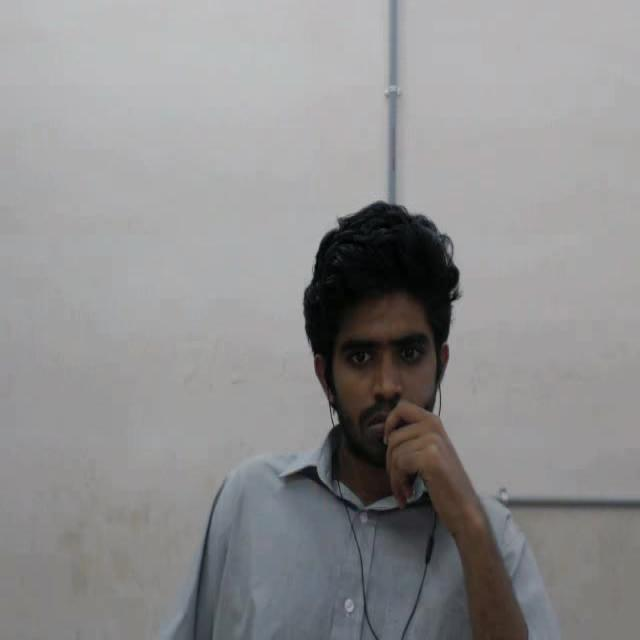Bored: (285, 182, 497, 530)
